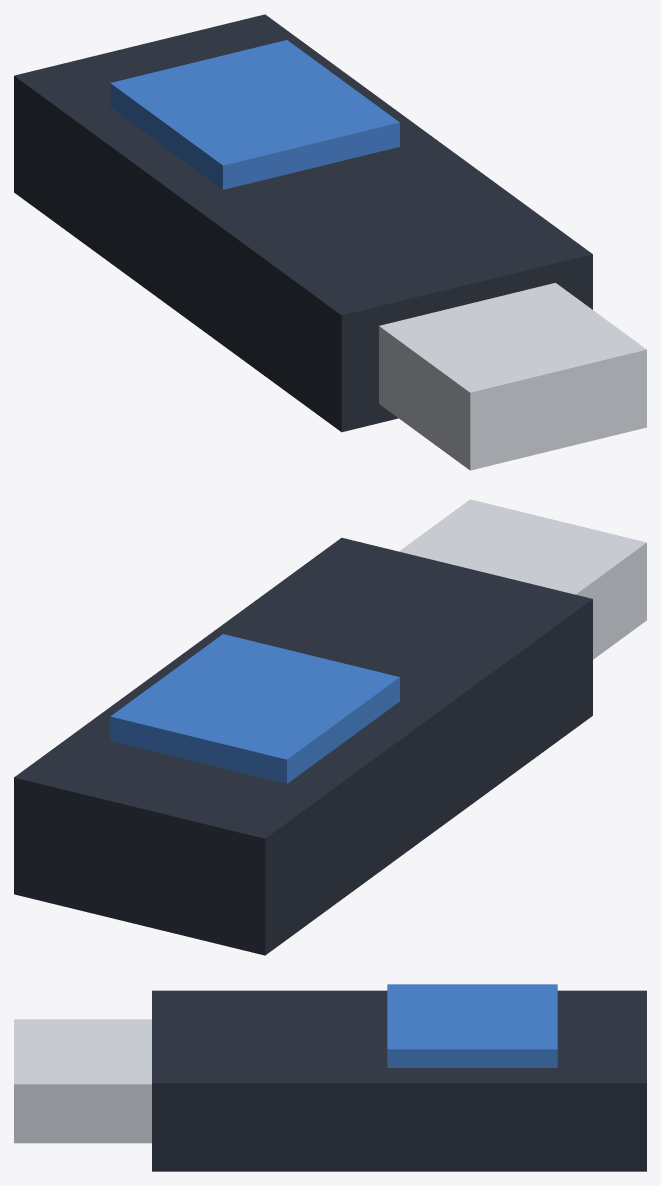
File: flash-drive.glb
3 views of the same model, one above another, from view 1: azimuth 30°, elevation 25°; view 2: azimuth 150°, elevation 25°; view 3: azimuth 270°, elevation 25° (orthographic). The views are drawn at different scales.
Visible parts, largest first — view 1: flash body, usb connector, label; view 2: flash body, label, usb connector; view 3: flash body, usb connector, label.
Part boxes in pixels (bbox=[...]): flash body: bbox=[14, 14, 592, 432]; usb connector: bbox=[379, 283, 646, 470]; label: bbox=[110, 40, 399, 189]; flash body: bbox=[14, 537, 592, 955]; label: bbox=[110, 634, 399, 783]; usb connector: bbox=[399, 499, 646, 659]; flash body: bbox=[152, 990, 646, 1171]; usb connector: bbox=[14, 1019, 151, 1143]; label: bbox=[387, 984, 557, 1067].
Bounding box in the file's own units: 0.54 × 0.295 × 1.56.
